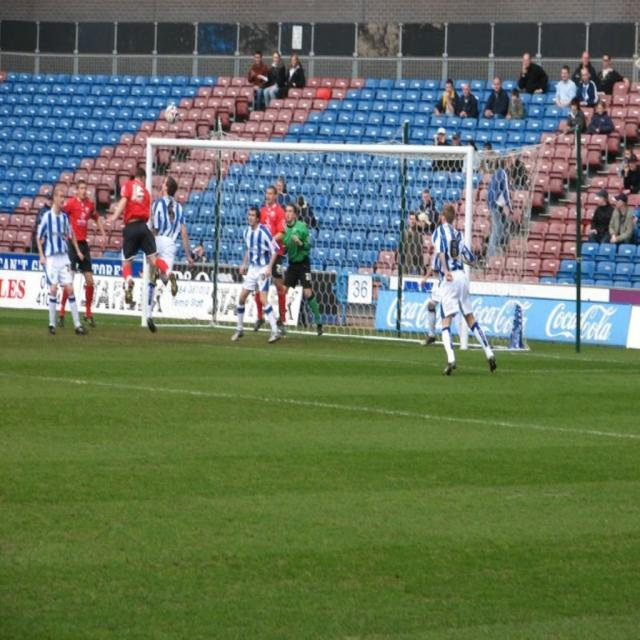Ball: (164, 103, 182, 124)
